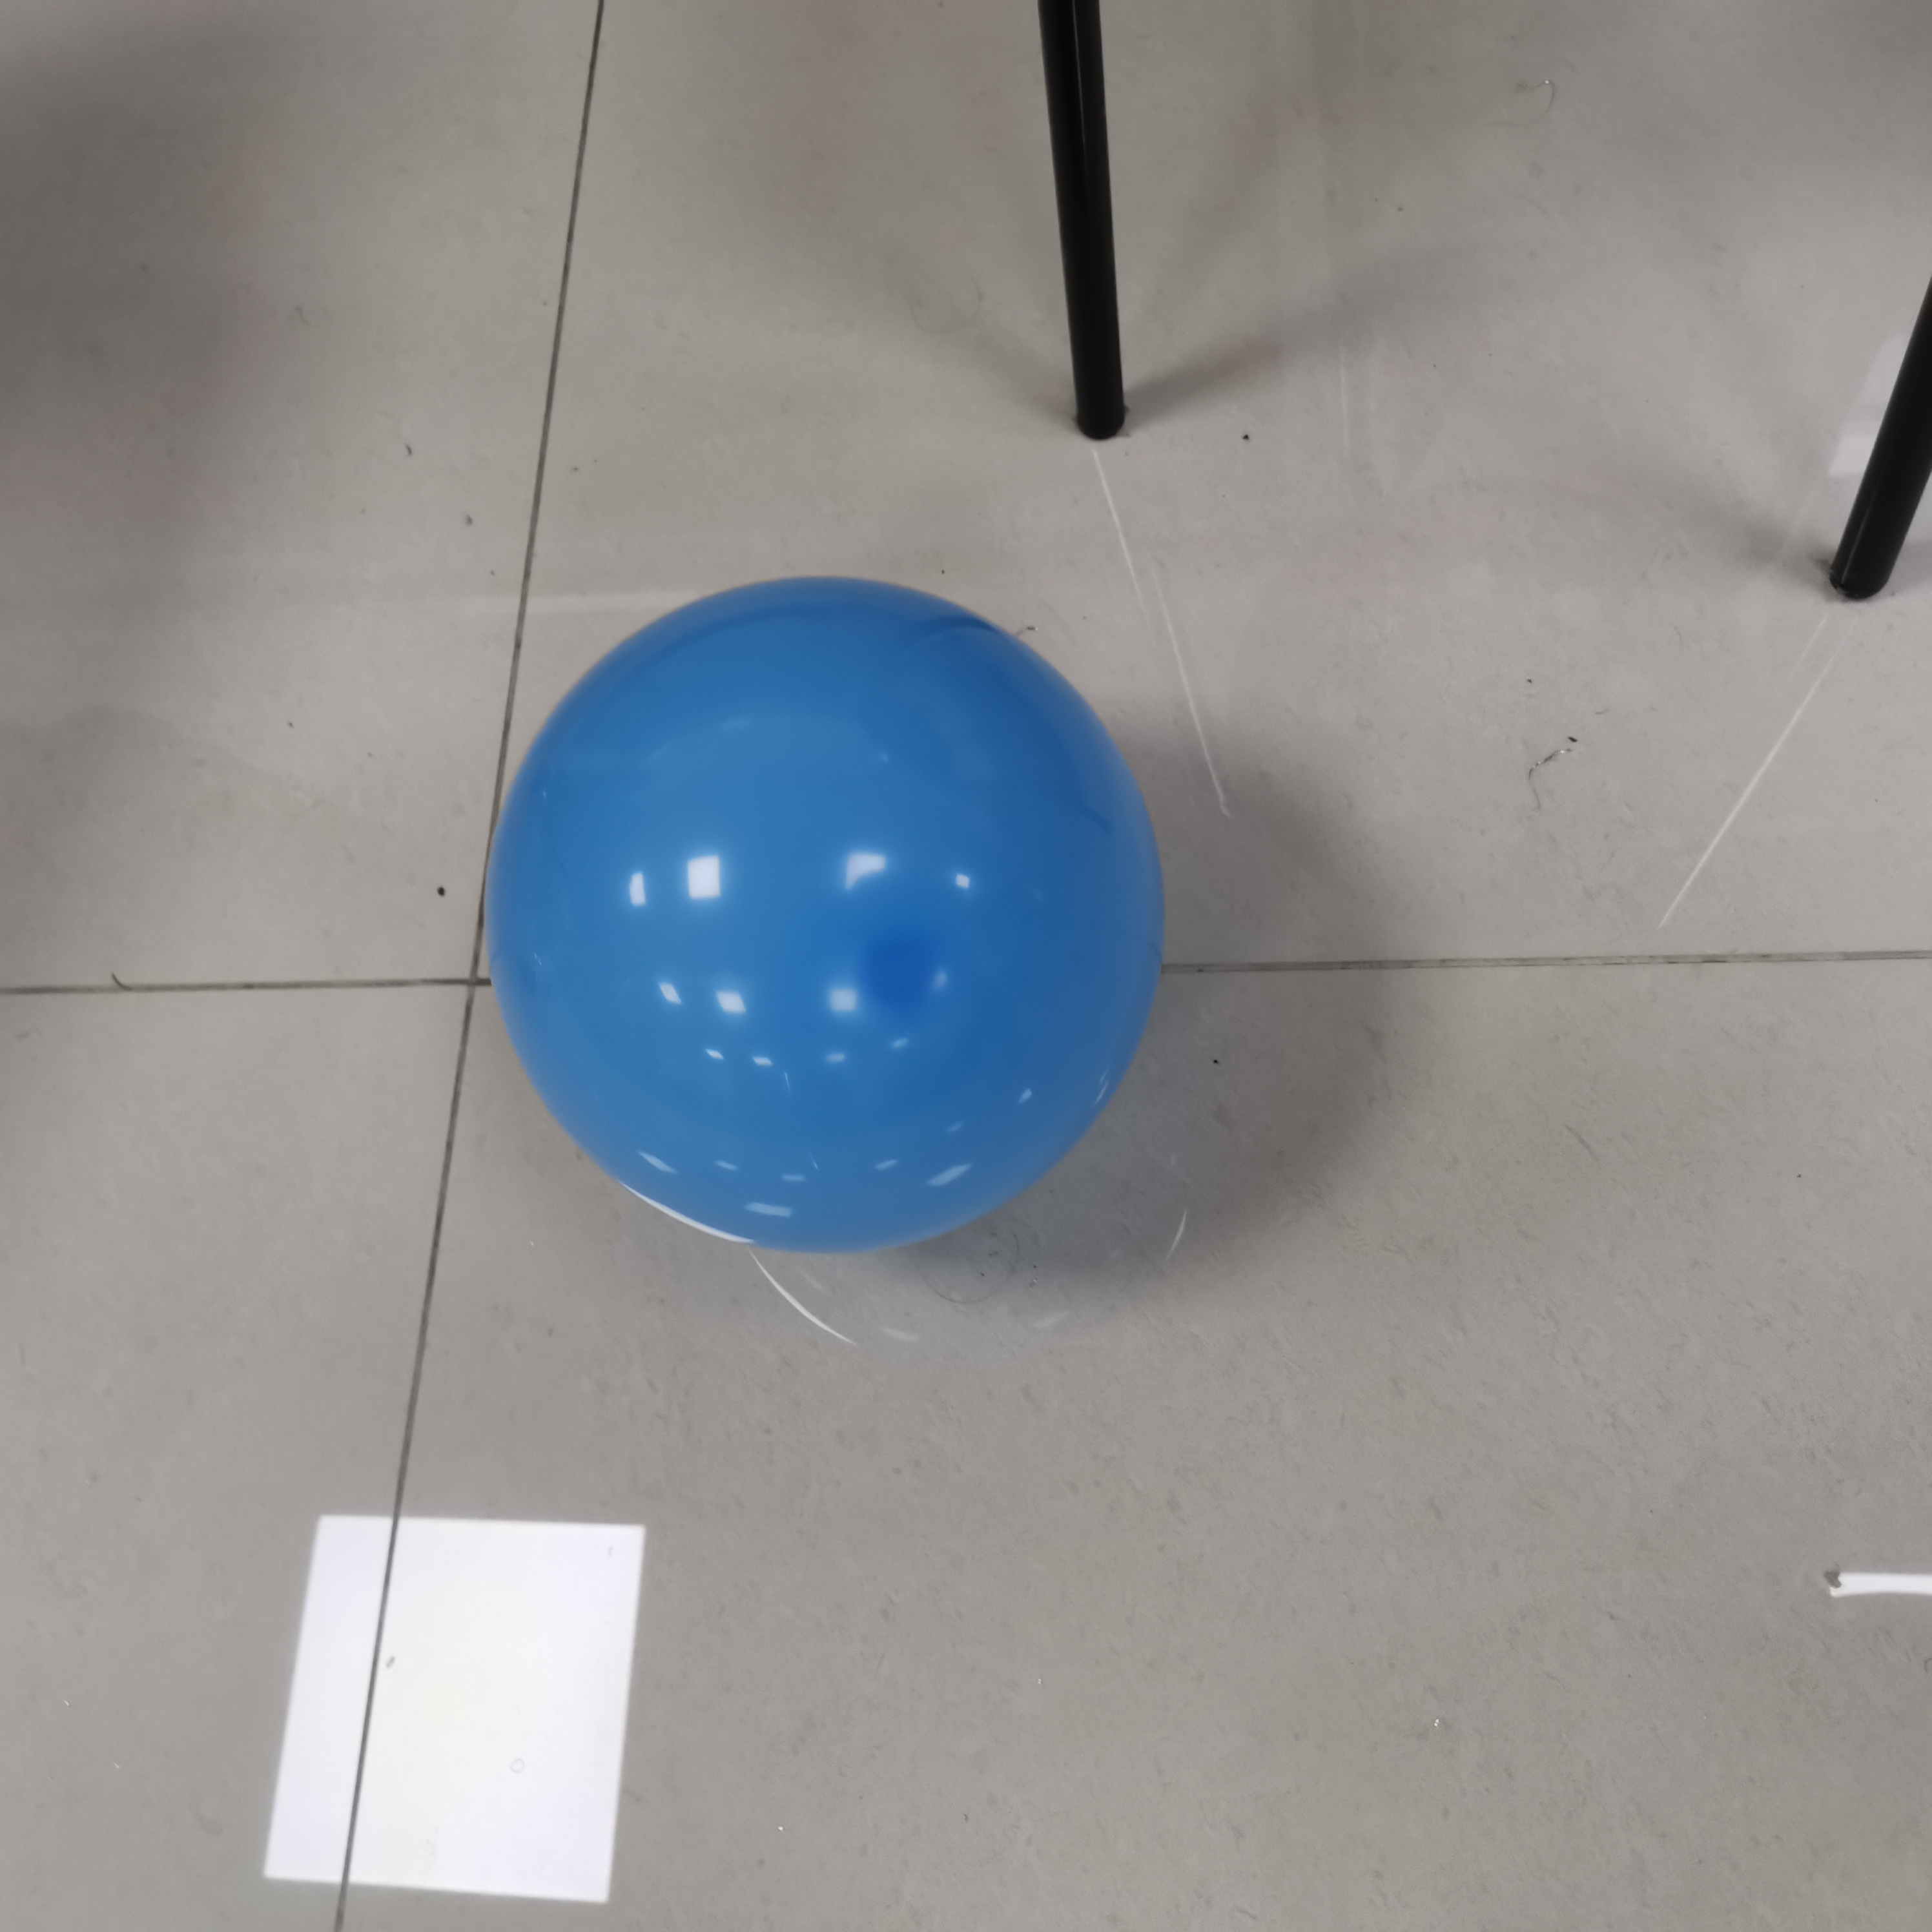balloon: (485, 573, 1164, 1261)
